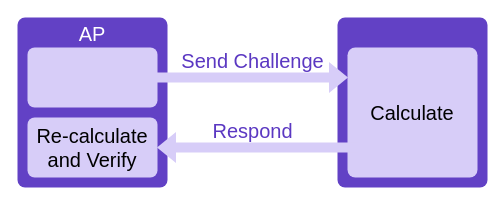
The diagram is 504 pixels wide and 204 high, and some of its shapes have lost their labels. Here are the shapes that lost their labels. From the top down, the box of each, then its label:
(27, 47, 157, 107): Random Number
(337, 17, 487, 187): Component
